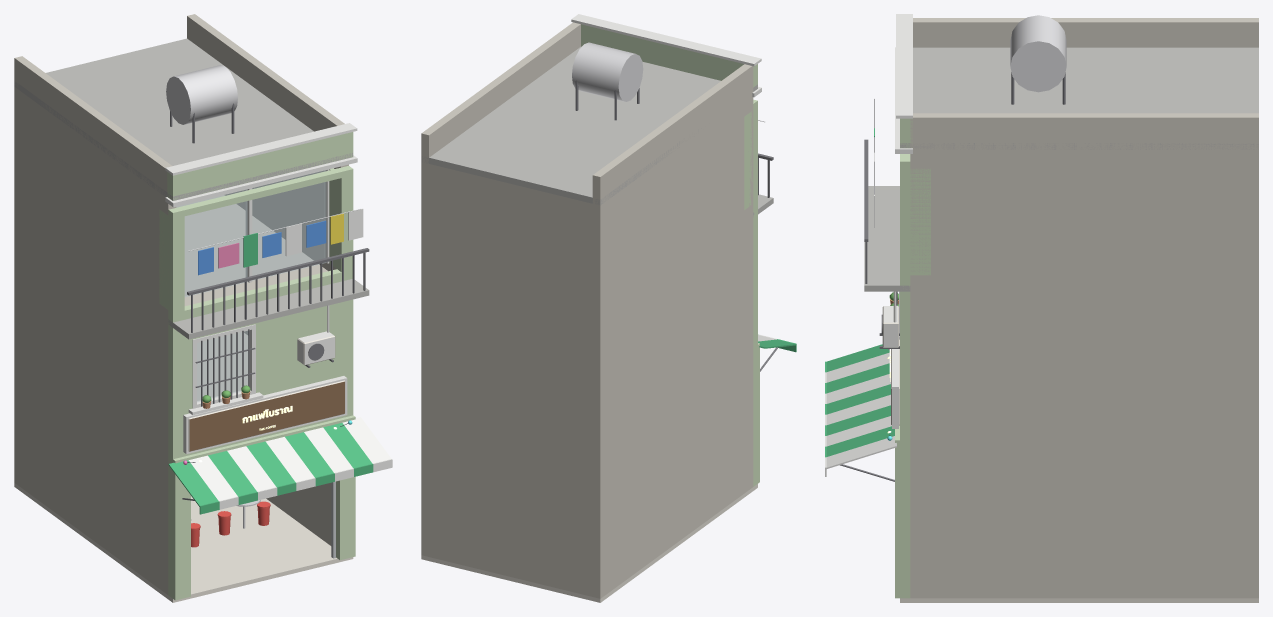
File: SM_Shop_Coffee.fbx
3 views of the same model, side by side, from view 1: azimuth 30°, elevation 25°; view 2: azimuth 150°, elevation 25°; view 3: azimuth 270°, elevation 25° (orthographic). The views are drawn at different scales.
Parts seen in each view (by area): view 1: SM_Shop_Coffee; view 2: SM_Shop_Coffee; view 3: SM_Shop_Coffee.
Part boxes in pixels (box(x1,y1,x2,y2)): SM_Shop_Coffee: box(14, 14, 392, 602); SM_Shop_Coffee: box(421, 14, 796, 602); SM_Shop_Coffee: box(825, 14, 1258, 602).
Bounding box in the file's own units: 4.9 × 11.3 × 8.47.
